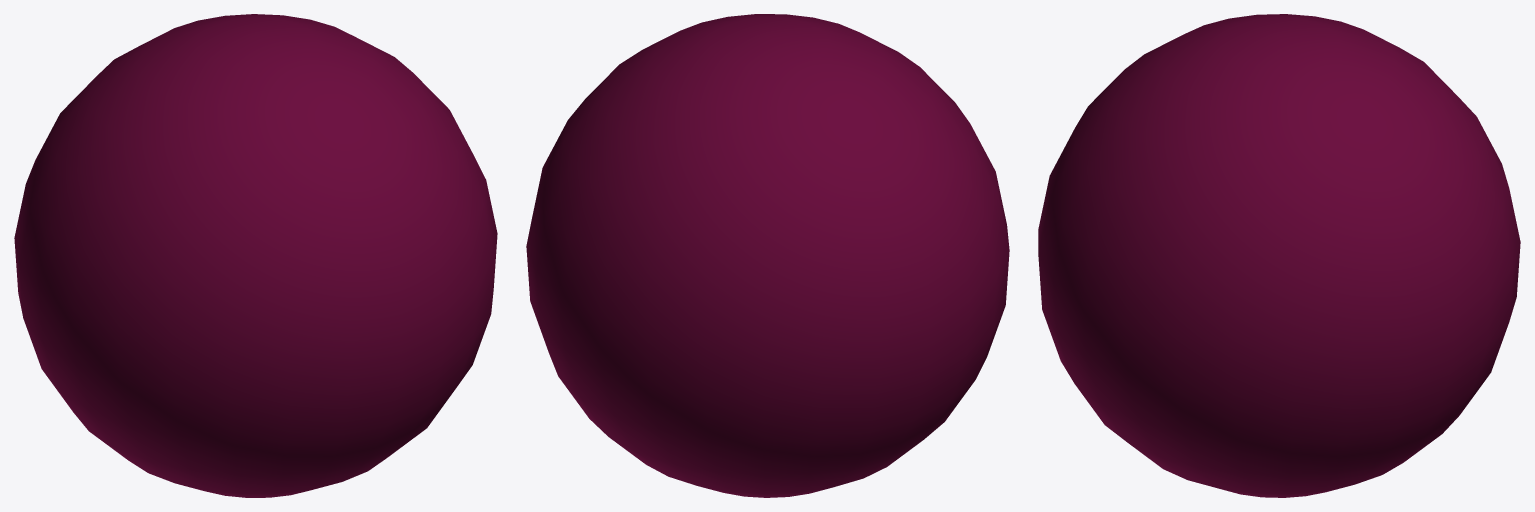
The model's file is ball_one.FBX.
3 views of the same model, side by side, from view 1: azimuth 30°, elevation 25°; view 2: azimuth 150°, elevation 25°; view 3: azimuth 270°, elevation 25° (orthographic).
Visible parts, largest first — view 1: Sphere002; view 2: Sphere002; view 3: Sphere002.
Boxes of the visible parts, <box> form: Sphere002: <box>14,14,497,497</box>; Sphere002: <box>526,14,1009,497</box>; Sphere002: <box>1038,14,1520,497</box>.
Bounding box in the file's own units: 19.92 × 20 × 19.88.
